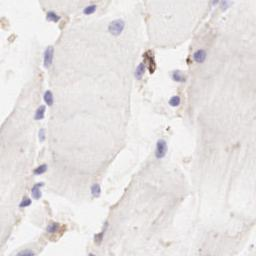nucleus: (154, 137, 167, 159), (109, 18, 124, 37), (42, 45, 54, 68), (31, 182, 46, 199), (170, 69, 187, 84), (135, 61, 145, 81), (45, 11, 61, 23), (33, 164, 48, 176), (34, 104, 45, 120), (91, 182, 101, 198), (167, 96, 181, 106), (44, 90, 53, 105), (45, 222, 60, 231), (20, 196, 32, 207), (194, 50, 205, 62), (38, 127, 46, 143), (84, 4, 95, 15), (17, 250, 34, 256), (222, 1, 233, 10), (212, 1, 218, 7)
positive_cell: (135, 47, 155, 81), (44, 222, 68, 240)
